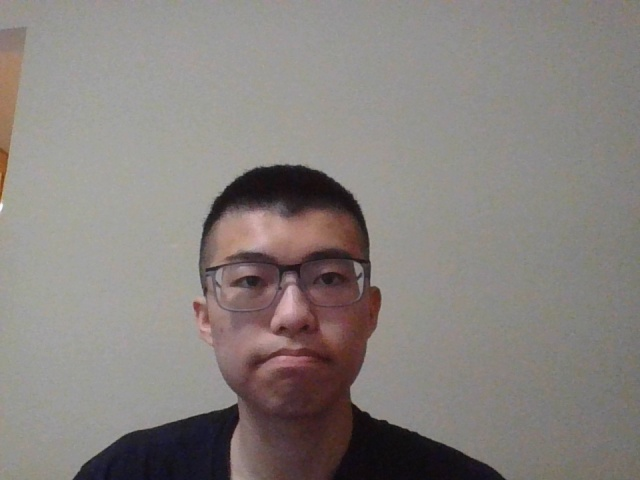neutral: (192, 164, 386, 420)
